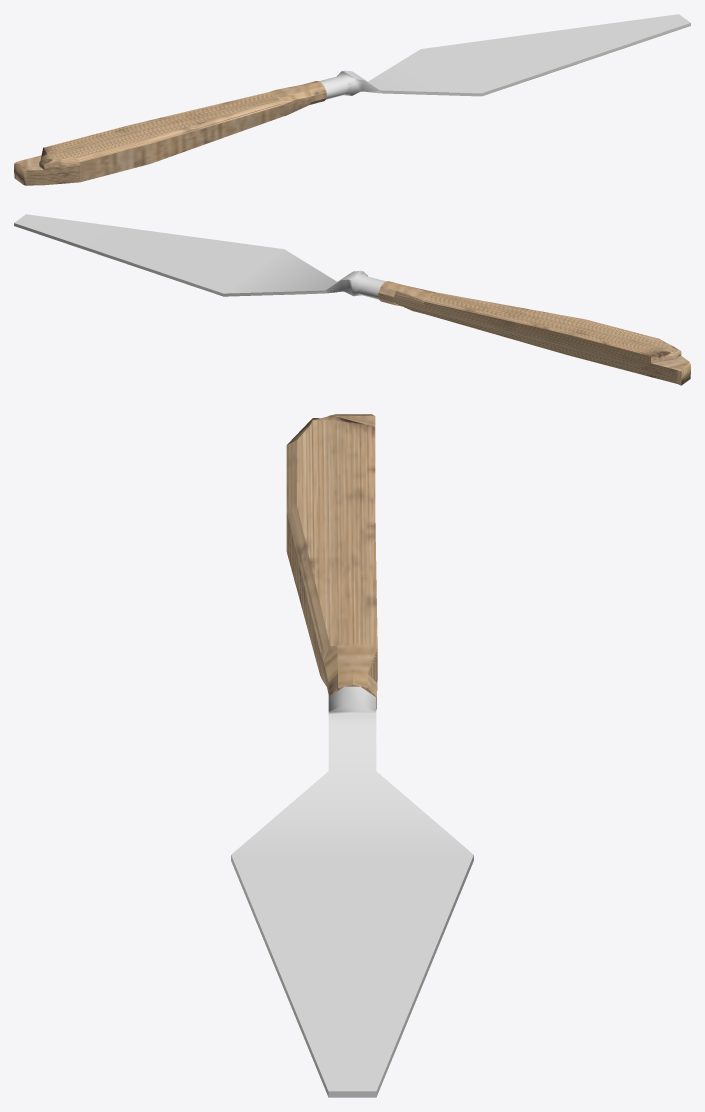
The model's file is Spatula1.fbx.
3 renders of one model, top to bottom at view 1: azimuth 30°, elevation 25°; view 2: azimuth 150°, elevation 25°; view 3: azimuth 270°, elevation 25°, orthographic. The views are drawn at different scales.
Visible parts, largest first — view 1: Spatula1; view 2: Spatula1; view 3: Spatula1.
Boxes of the visible parts, box(x1,y1,x2,y2) form: Spatula1: box(14, 14, 690, 185); Spatula1: box(14, 214, 690, 385); Spatula1: box(231, 414, 473, 1097).
Size of the model in its own units: 0.6572 by 0.027 by 0.1037.
